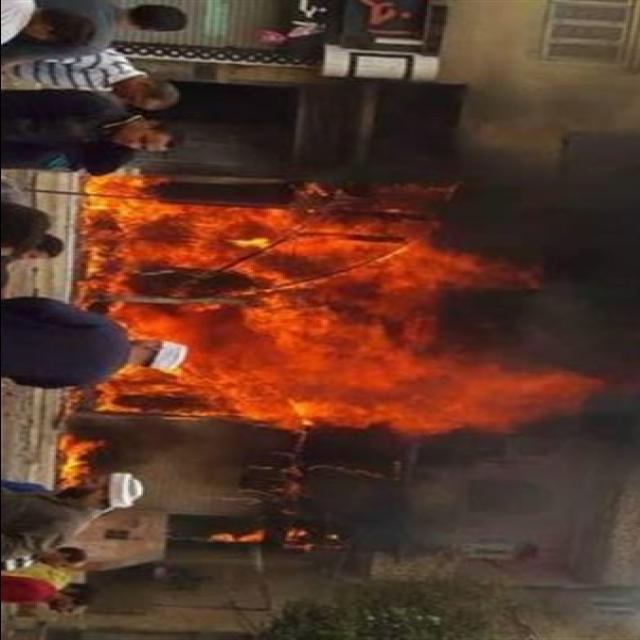Fire: (68, 180, 583, 431)
